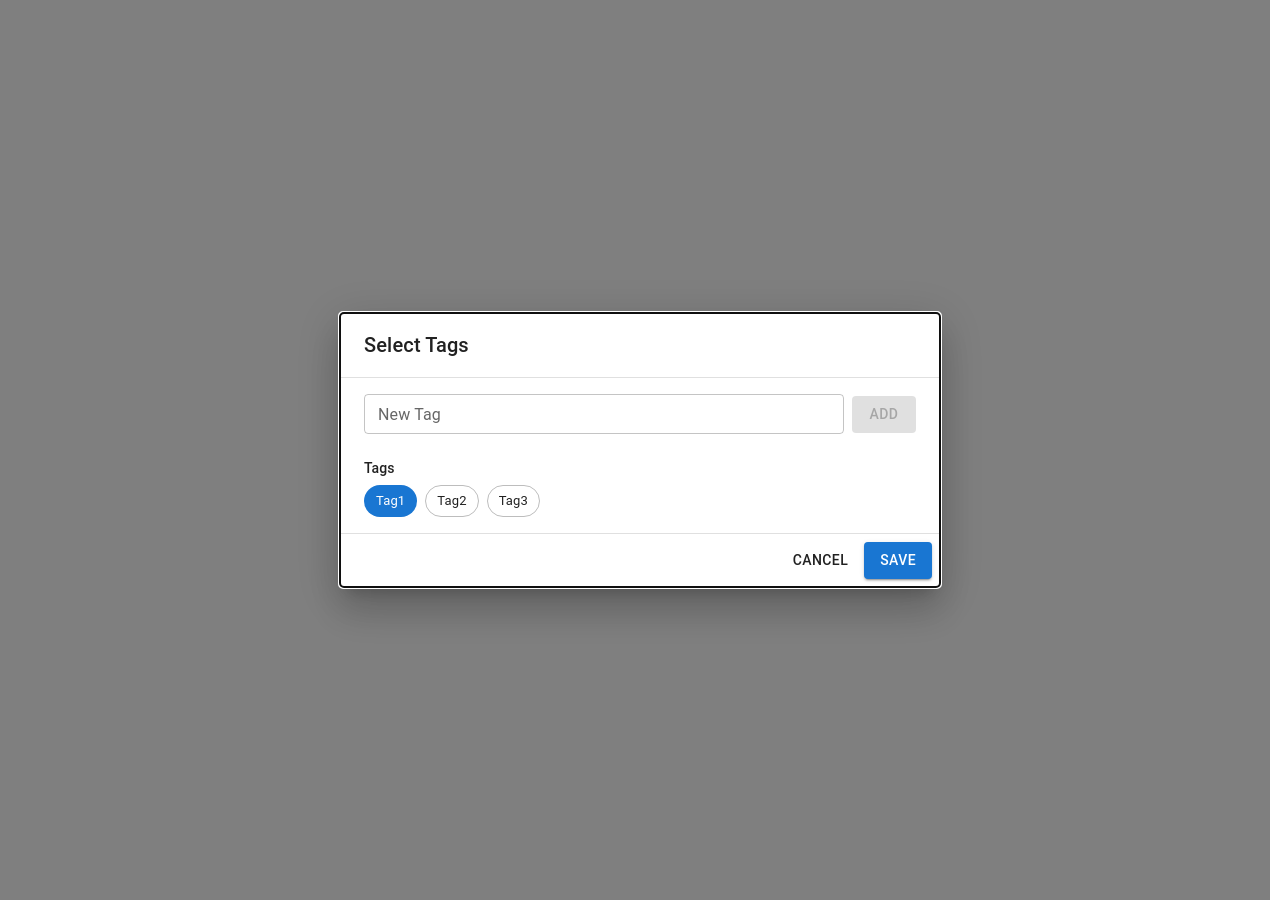
Test: TagsModal › adds a tag when Enter is pressed
In the field labelled "New Tag": x=604, y=414 [364,394,844,434], type "FromEnter"
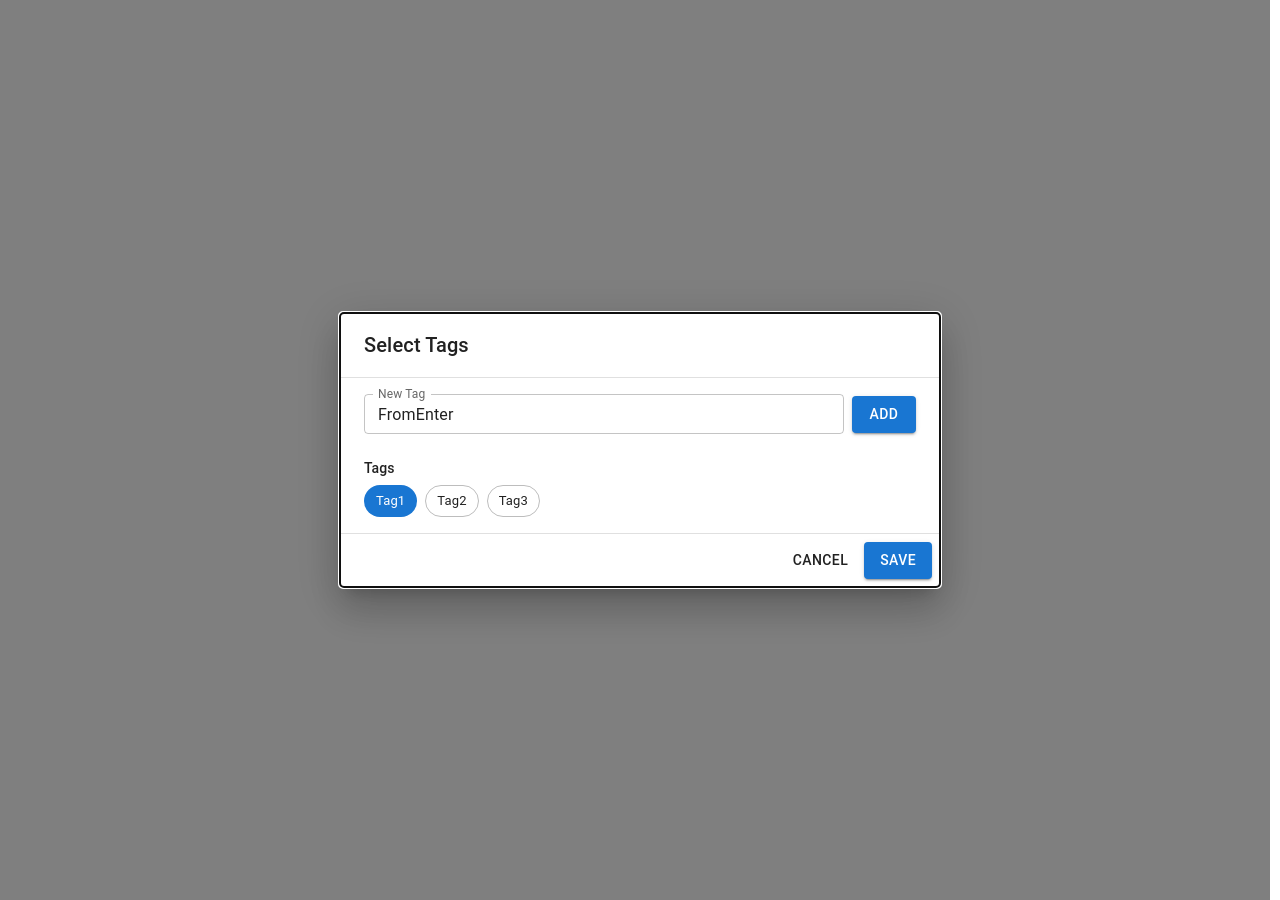
Press Enter in the field labelled "New Tag", box [364,394,844,434]
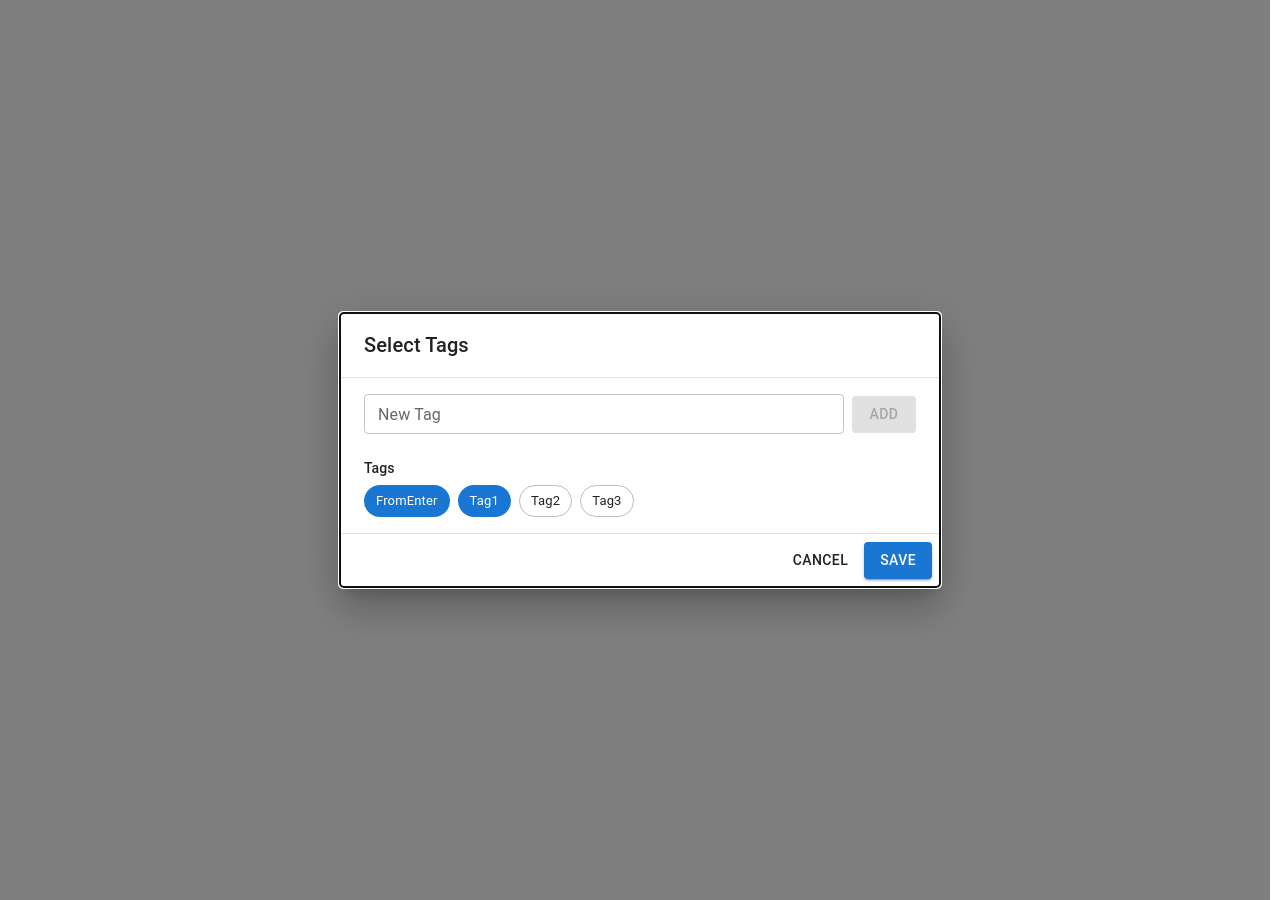
Expected: the text "FromEnter" is shown, [376,493,438,508]
